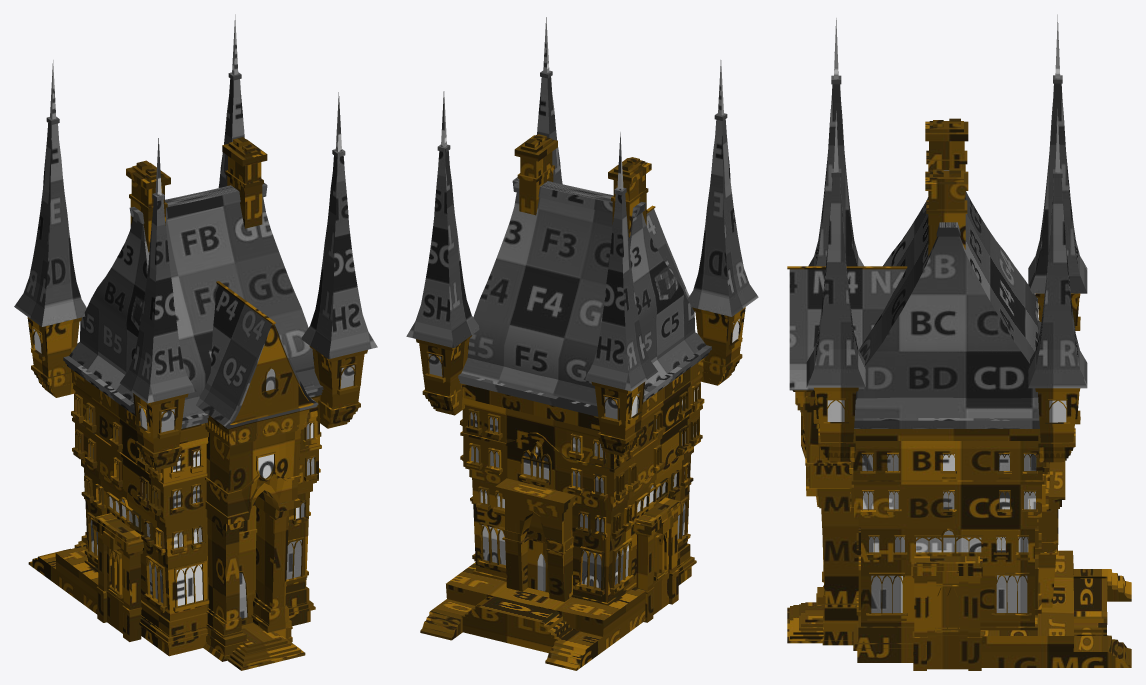
The model's file is House.fbx.
3 views of the same model, side by side, from view 1: azimuth 30°, elevation 25°; view 2: azimuth 150°, elevation 25°; view 3: azimuth 270°, elevation 25° (orthographic). The views are drawn at different scales.
Visible parts, largest first — view 1: pCube2, FrontBody, Tower4, Tower5, Tower7, Side3, Chimney5, BackStairs, FrontStairs, Chimney7, Tower6; view 2: pCube2, BackStairs, Tower7, Tower6, Tower4, BackBody, Side3, Chimney5, Chimney7, Tower5, BackDoor, FrontBody; view 3: pCube2, FrontBody, BackStairs, Tower6, Tower5, Side2, Tower7, Tower4, Chimney5, BackBody, Chimney7, FrontStairs.
Boxes of the visible parts, x1=… form: pCube2: x1=63, y1=183, x2=323, y2=656; FrontBody: x1=196, y1=281, x2=318, y2=661; Tower4: x1=120, y1=138, x2=196, y2=470; Tower5: x1=301, y1=92, x2=377, y2=428; Tower7: x1=14, y1=60, x2=86, y2=397; Side3: x1=92, y1=513, x2=143, y2=641; Chimney5: x1=222, y1=137, x2=267, y2=228; BackStairs: x1=28, y1=532, x2=98, y2=614; FrontStairs: x1=227, y1=623, x2=305, y2=670; Chimney7: x1=126, y1=160, x2=170, y2=252; Tower6: x1=218, y1=14, x2=244, y2=187; pCube2: x1=458, y1=177, x2=711, y2=605; BackStairs: x1=420, y1=562, x2=646, y2=670; Tower7: x1=583, y1=132, x2=657, y2=456; Tower6: x1=406, y1=91, x2=479, y2=415; Tower4: x1=687, y1=60, x2=758, y2=385; BackBody: x1=495, y1=478, x2=577, y2=601; Side3: x1=633, y1=497, x2=682, y2=622; Chimney5: x1=514, y1=134, x2=557, y2=215; Chimney7: x1=608, y1=157, x2=651, y2=237; Tower5: x1=537, y1=17, x2=562, y2=184; BackDoor: x1=527, y1=513, x2=548, y2=592; FrontBody: x1=646, y1=205, x2=694, y2=311; pCube2: x1=849, y1=170, x2=1049, y2=662; FrontBody: x1=787, y1=266, x2=907, y2=645; BackStairs: x1=980, y1=550, x2=1131, y2=667; Tower6: x1=1028, y1=109, x2=1087, y2=462; Tower5: x1=806, y1=111, x2=865, y2=461; Side2: x1=911, y1=556, x2=982, y2=670; Tower7: x1=1028, y1=14, x2=1087, y2=330; Tower4: x1=808, y1=18, x2=863, y2=266; Chimney5: x1=925, y1=168, x2=968, y2=255; BackBody: x1=1035, y1=461, x2=1065, y2=607; Chimney7: x1=925, y1=118, x2=968, y2=200; FrontStairs: x1=787, y1=602, x2=824, y2=643.
Bounding box in the file's own units: 14.04 × 30.95 × 17.03.
3 materials, 3 textured.
